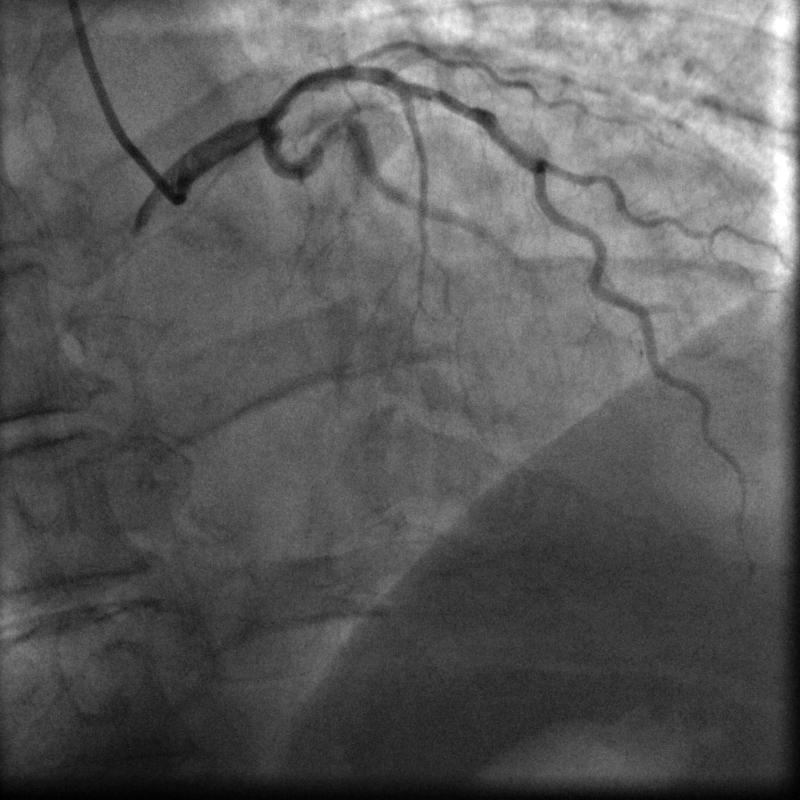Stenosis: (315, 114, 361, 147)
